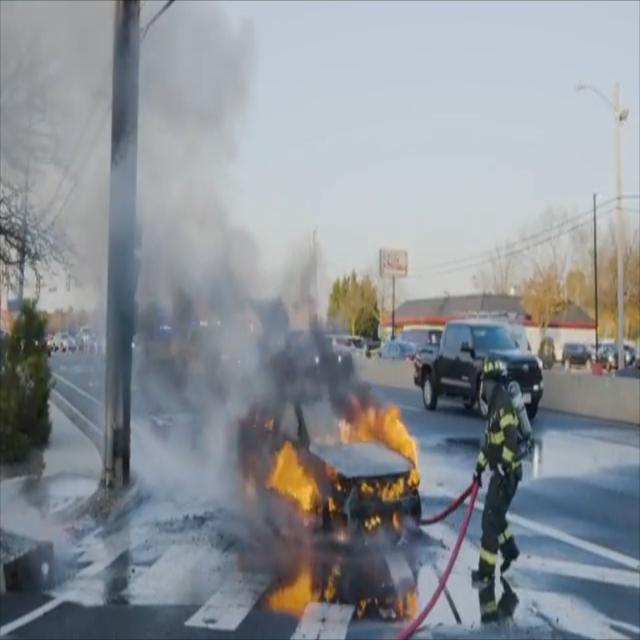fire: (235, 374, 420, 540), (270, 572, 416, 624)
